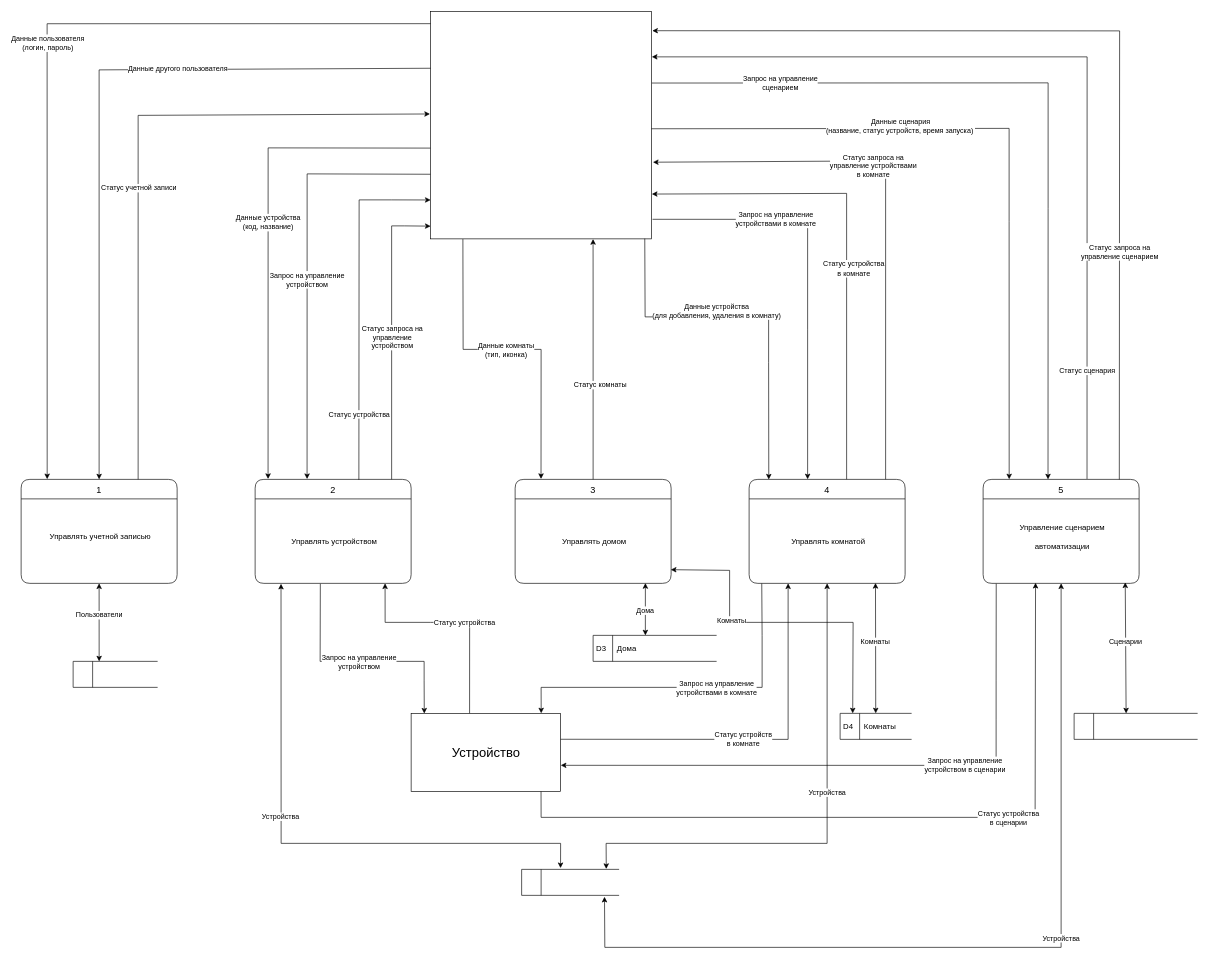
Some shapes in this 1209 by 965 pixel diagram are drawn without their labels. The centre of each missing label's shape, as x and y in pixels:
"D1 Пользователи" goes at [115,674].
"D2 Устройства" goes at [570,882].
"D5 Сценарии автоматизации" goes at [1135,726].
"Пользователь" goes at [541,125].
